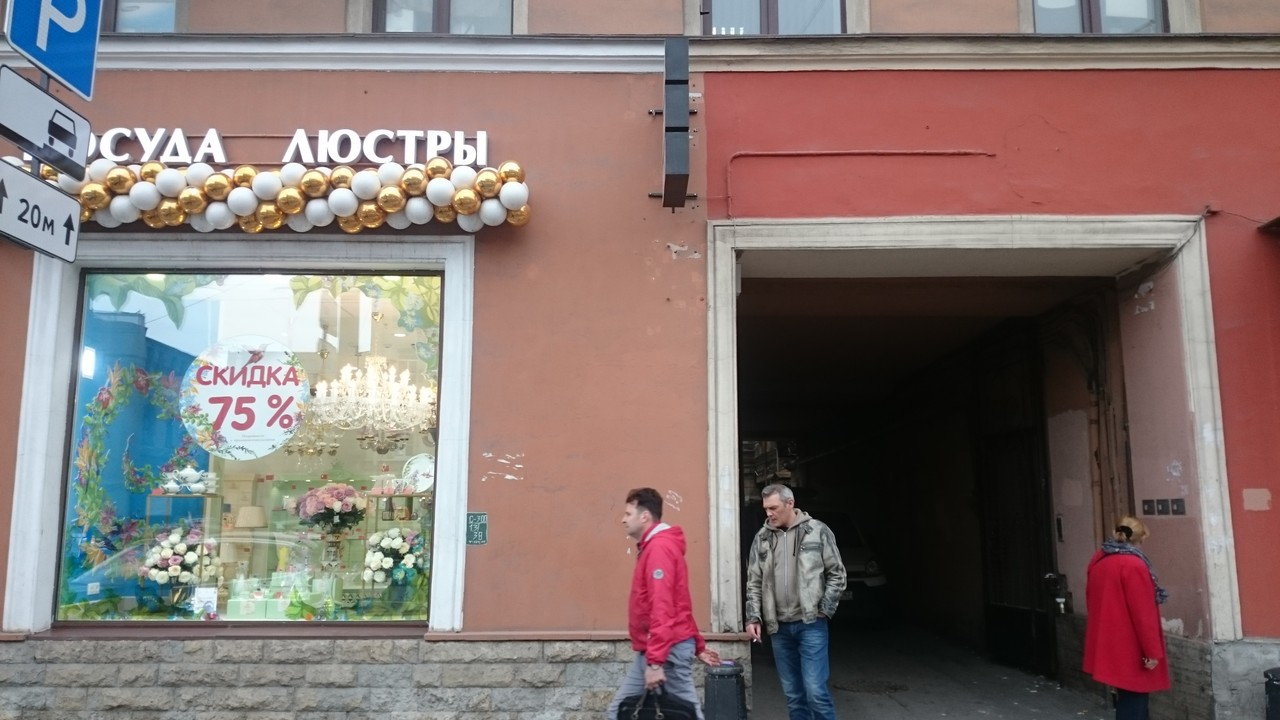arch: (708, 220, 1229, 720)
cantilever: (644, 37, 708, 210)
signboard: (85, 128, 494, 165)
window: (53, 274, 446, 628)
